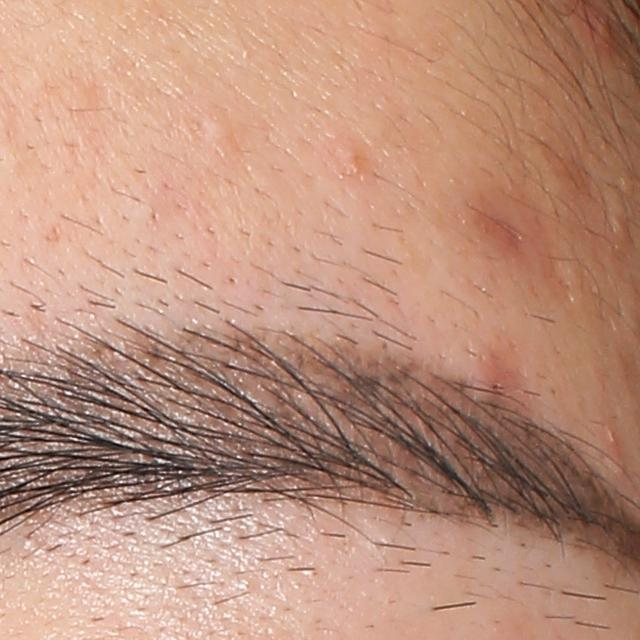comedo: (194, 102, 237, 163)
papule: (459, 348, 522, 410), (578, 10, 625, 53)
